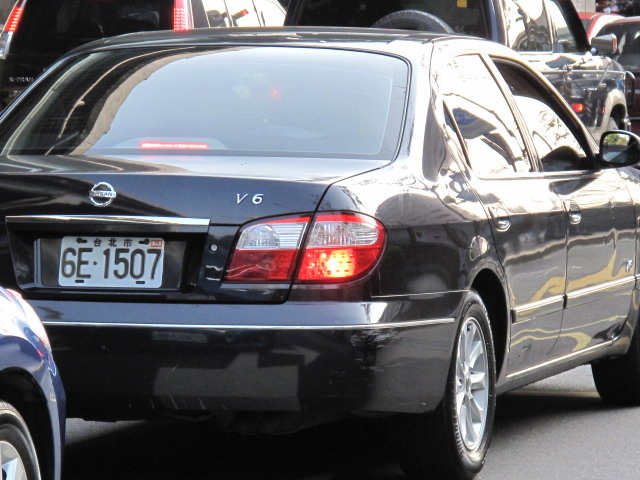plate: (57, 232, 167, 292)
